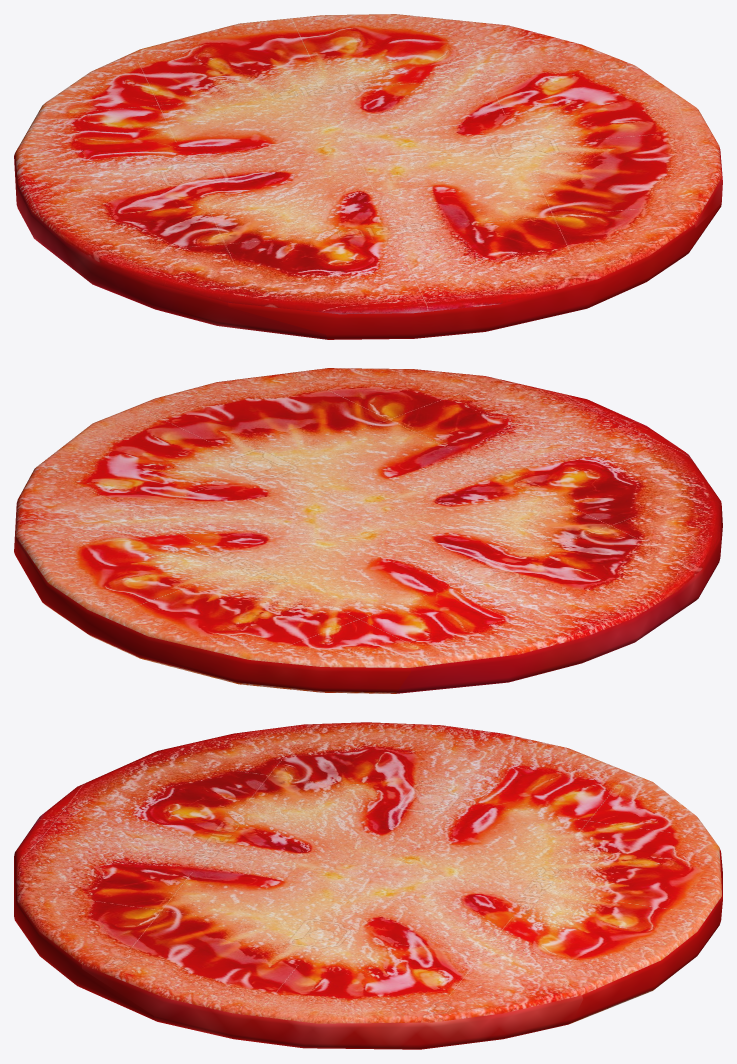
The model's file is hamburguesa_jitomate.fbx.
3 renders of one model, top to bottom at view 1: azimuth 30°, elevation 25°; view 2: azimuth 150°, elevation 25°; view 3: azimuth 270°, elevation 25°, orthographic.
Visible parts, largest first — view 1: Tomate; view 2: Tomate; view 3: Tomate.
Part boxes in pixels (<box>): Tomate: <box>14,14,722,339</box>; Tomate: <box>14,368,722,693</box>; Tomate: <box>14,722,722,1049</box>.
Bounding box in the file's own units: 239 × 12 × 238.
Materials: 1 (1 with a texture image).
